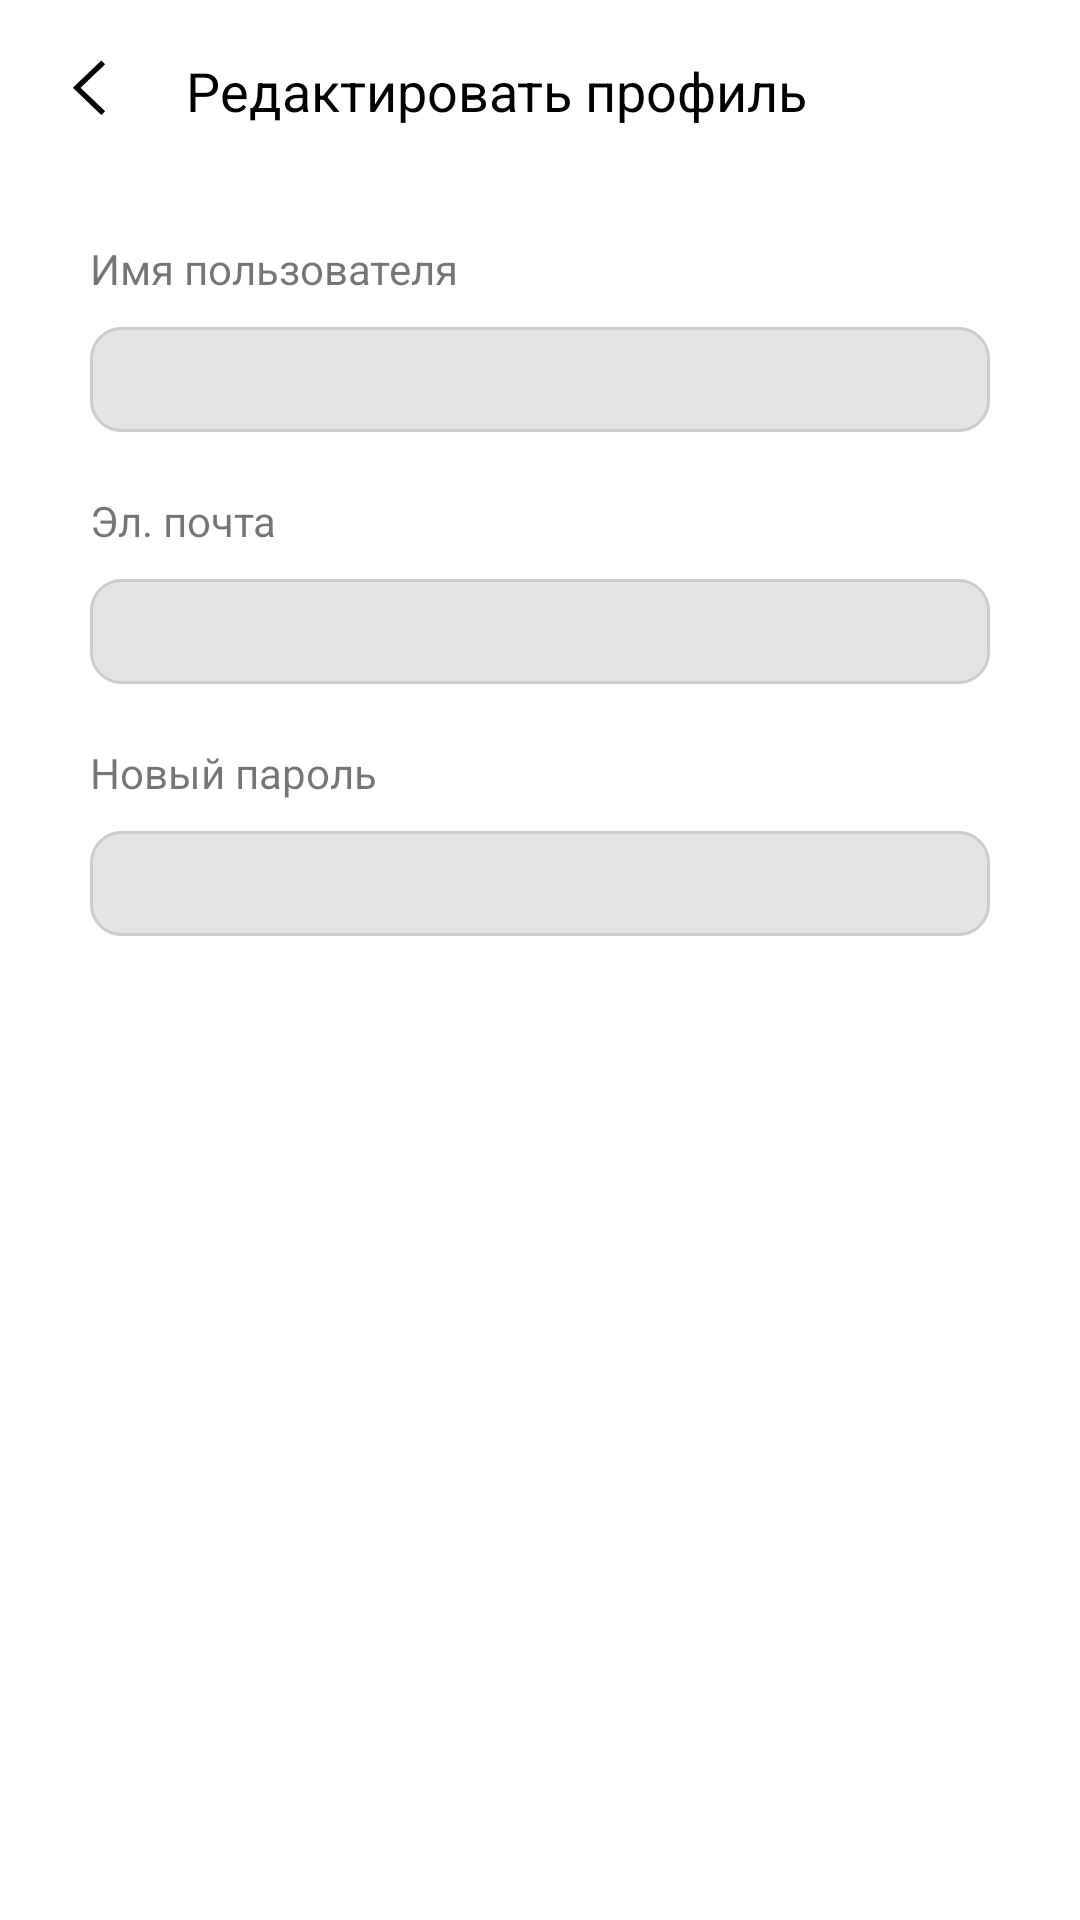

Icon bounding boxes for this 1080px x 1920px phone screenshot, format (x1, y1, x2, y2):
back: (73, 60, 105, 115)
